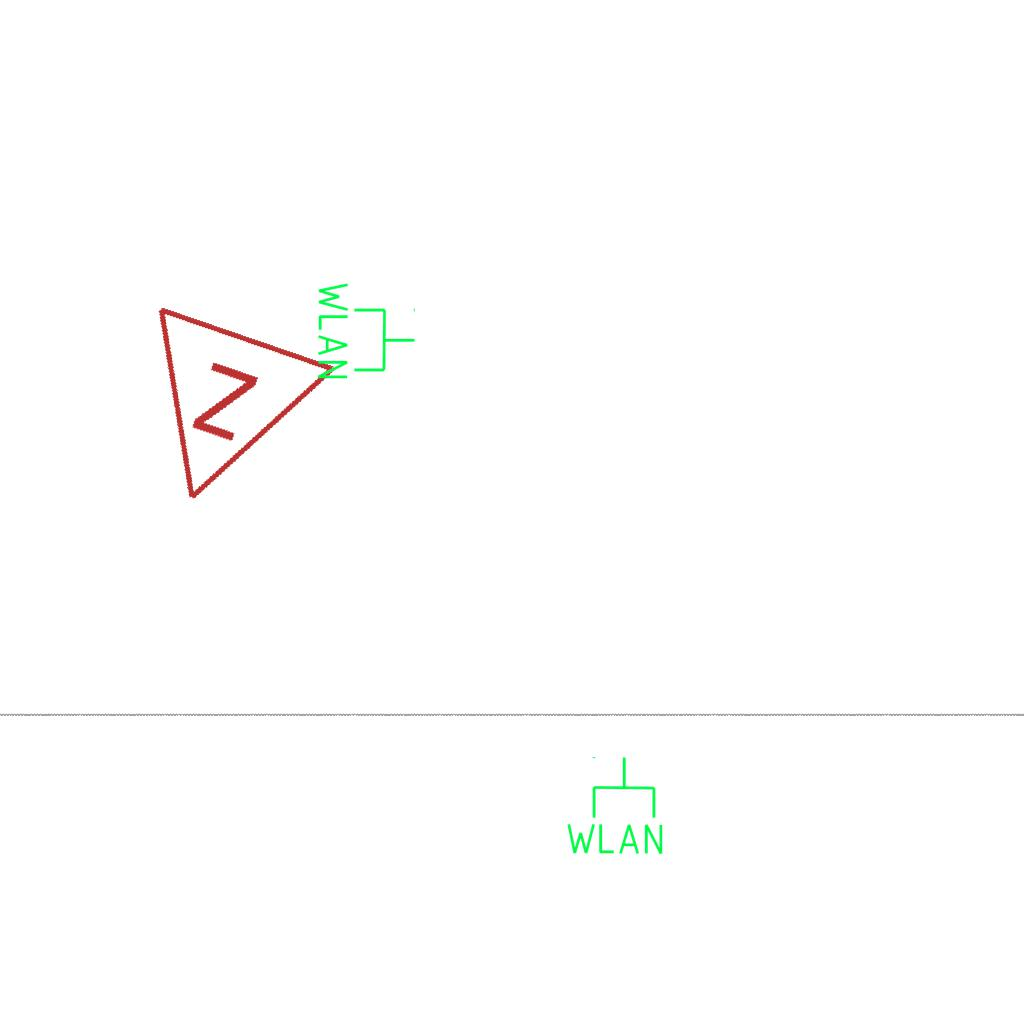WLAN: (314, 278, 418, 383), (562, 754, 667, 858)
Zimmersignalleuchte: (96, 291, 348, 545)
